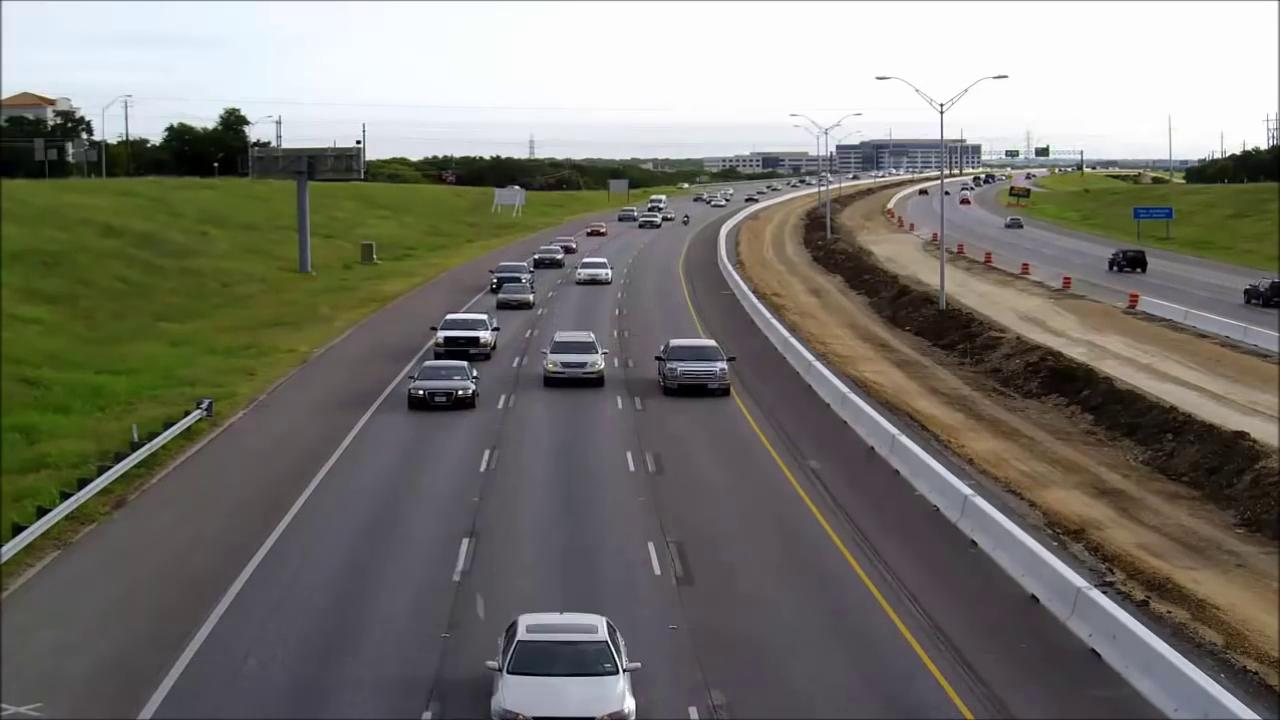car: (488, 612, 648, 720), (652, 337, 733, 393), (408, 361, 484, 409), (541, 331, 611, 381), (431, 314, 501, 359), (1103, 250, 1148, 277), (572, 257, 615, 284), (495, 283, 537, 310), (1241, 280, 1280, 308), (493, 263, 533, 286), (530, 247, 567, 270), (636, 214, 661, 229), (614, 211, 638, 225), (648, 195, 671, 209), (585, 224, 609, 236), (1005, 218, 1025, 230)
